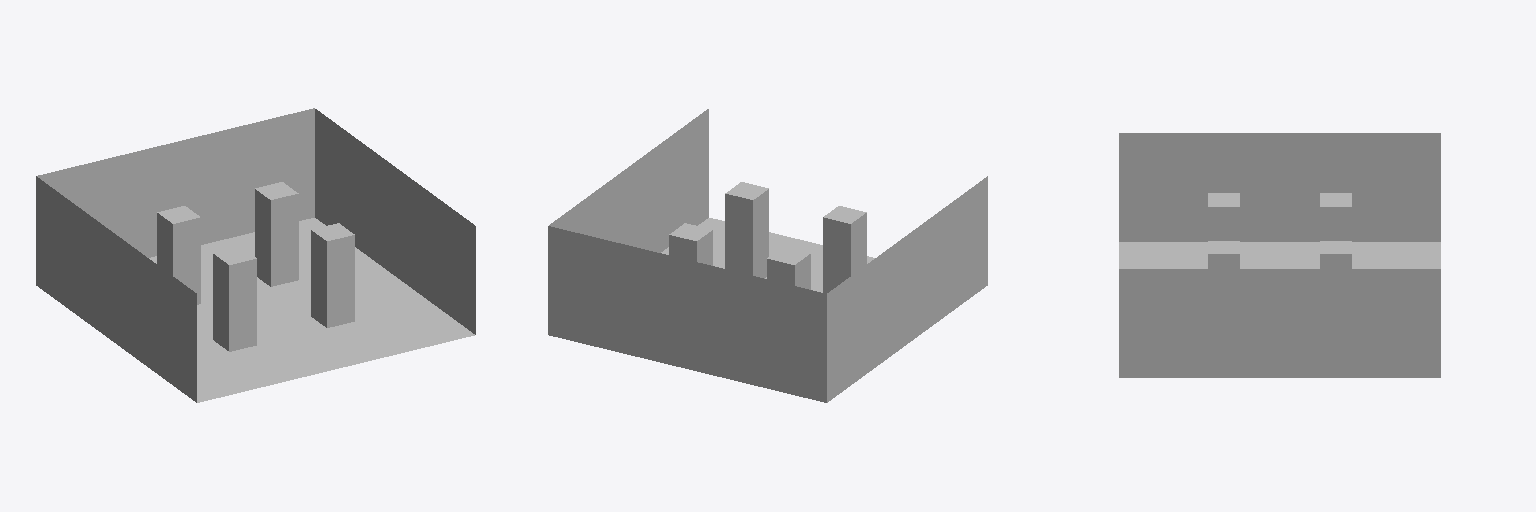
Rendered from pillars.obj.
3 renders of one model, left to right at view 1: azimuth 30°, elevation 25°; view 2: azimuth 150°, elevation 25°; view 3: azimuth 270°, elevation 25°, orthographic.
Visible parts, largest first — view 1: Cube, Cube.003_Cube.007, Cube.004_Cube.008, Cube.001_Cube.005, Cube.002_Cube.006; view 2: Cube, Cube.003_Cube.007, Cube.004_Cube.008, Cube.002_Cube.006, Cube.001_Cube.005; view 3: Cube, Cube.004_Cube.008, Cube.002_Cube.006, Cube.003_Cube.007, Cube.001_Cube.005.
Boxes of the visible parts, x1,y1,x2,y2 form: Cube: [36, 108, 475, 402]; Cube.003_Cube.007: [311, 223, 354, 327]; Cube.004_Cube.008: [213, 247, 256, 351]; Cube.001_Cube.005: [255, 182, 298, 286]; Cube.002_Cube.006: [157, 206, 200, 304]; Cube: [548, 109, 987, 402]; Cube.003_Cube.007: [725, 182, 768, 278]; Cube.004_Cube.008: [823, 206, 866, 293]; Cube.002_Cube.006: [767, 247, 810, 289]; Cube.001_Cube.005: [669, 223, 712, 265]; Cube: [1119, 133, 1440, 377]; Cube.004_Cube.008: [1208, 193, 1239, 240]; Cube.002_Cube.006: [1320, 193, 1351, 240]; Cube.003_Cube.007: [1208, 241, 1239, 268]; Cube.001_Cube.005: [1320, 241, 1351, 268].
Size of the model in its own units: 2 by 0.755 by 2.